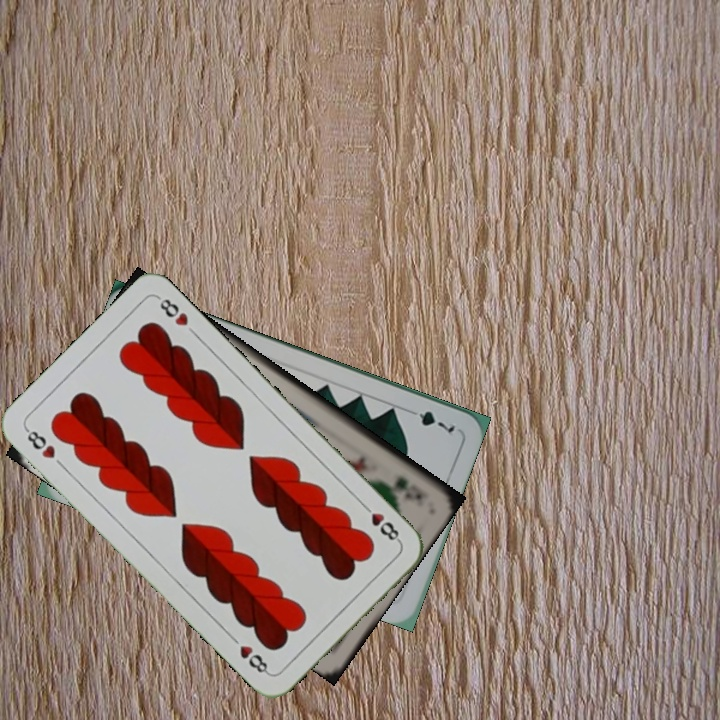G7: (402, 406, 458, 436)
GK: (390, 472, 425, 502)
H8: (357, 499, 403, 545), (21, 424, 58, 461)
